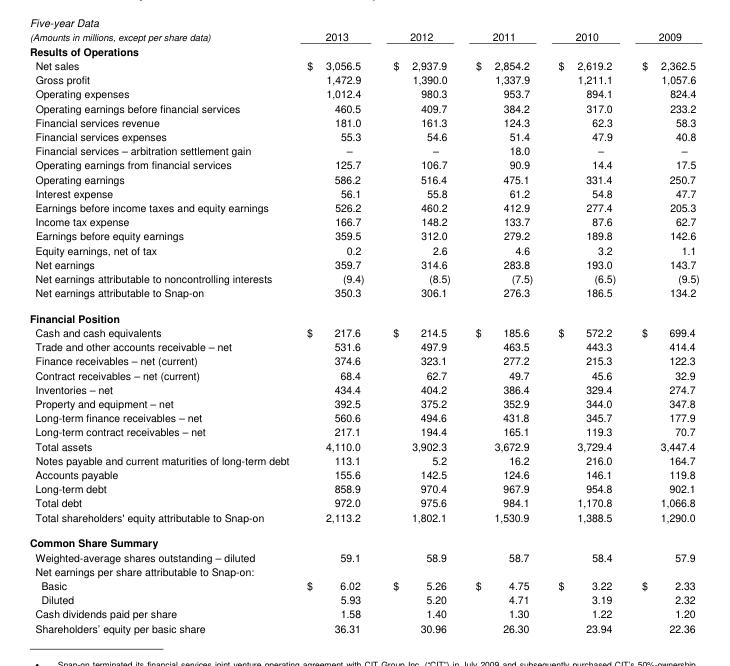table: (28, 28, 698, 634)
table column: (28, 28, 297, 634), (377, 28, 462, 634), (544, 28, 628, 634), (462, 28, 544, 634), (297, 28, 377, 634), (628, 28, 698, 634)
table column header: (28, 28, 698, 43)
table projected row header: (28, 304, 698, 324), (28, 529, 698, 549), (28, 43, 698, 57), (28, 563, 698, 577)
table row: (28, 284, 698, 304), (28, 304, 698, 324), (28, 509, 698, 529), (28, 529, 698, 549), (28, 28, 698, 43), (28, 71, 698, 86), (28, 142, 698, 157), (28, 199, 698, 214), (28, 324, 698, 339), (28, 395, 698, 410), (28, 466, 698, 481), (28, 591, 698, 606), (28, 43, 698, 57), (28, 57, 698, 71), (28, 86, 698, 100), (28, 100, 698, 114), (28, 114, 698, 128), (28, 128, 698, 142), (28, 157, 698, 171), (28, 171, 698, 185), (28, 185, 698, 199), (28, 214, 698, 228), (28, 228, 698, 242), (28, 242, 698, 256), (28, 256, 698, 270), (28, 270, 698, 284), (28, 339, 698, 353), (28, 353, 698, 367), (28, 367, 698, 381), (28, 381, 698, 395), (28, 410, 698, 424), (28, 424, 698, 438), (28, 438, 698, 452), (28, 452, 698, 466), (28, 481, 698, 495), (28, 495, 698, 509), (28, 549, 698, 563), (28, 563, 698, 577), (28, 577, 698, 591), (28, 606, 698, 620), (28, 620, 698, 634)
